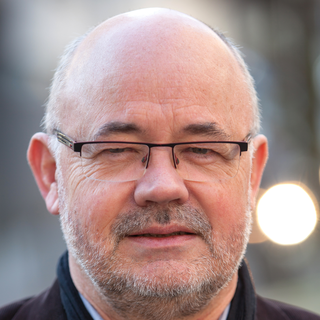eye: (90, 138, 145, 169), (172, 138, 225, 167)
